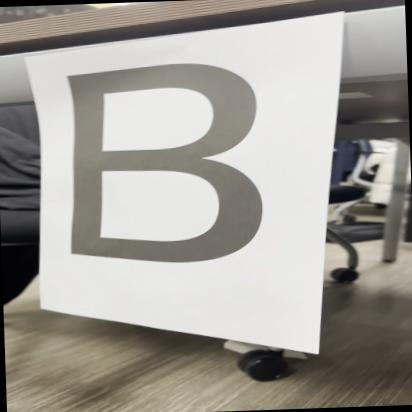seat: (44, 54, 328, 276)
